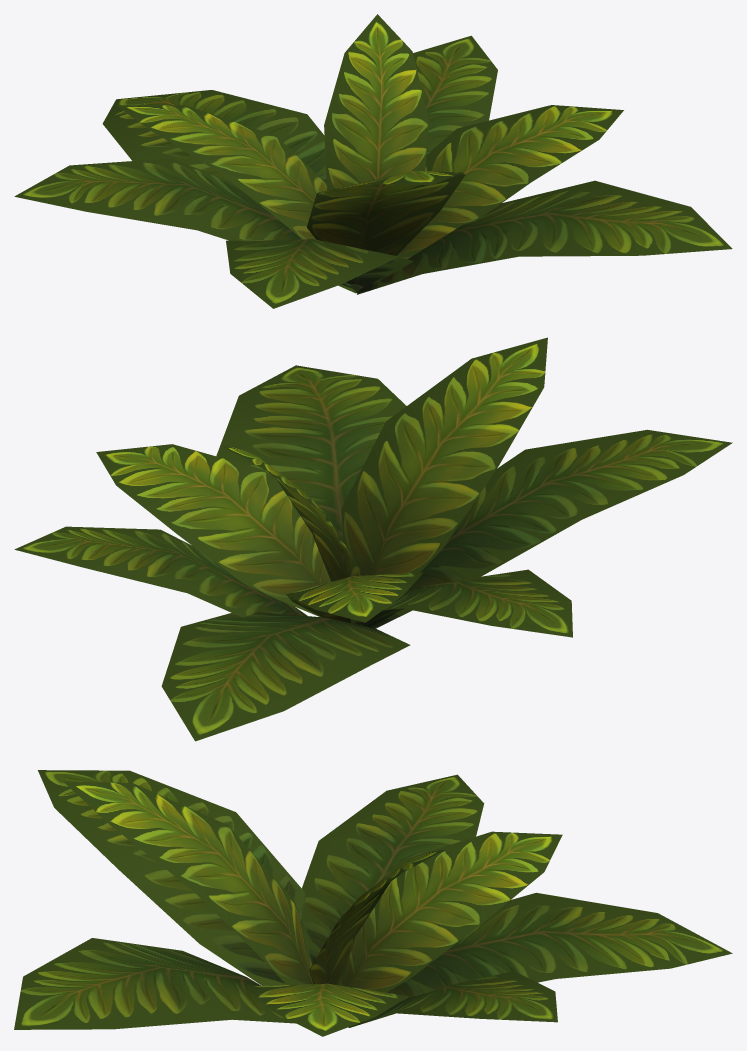
The model's file is Fern.FBX.
3 renders of one model, top to bottom at view 1: azimuth 30°, elevation 25°; view 2: azimuth 150°, elevation 25°; view 3: azimuth 270°, elevation 25°, orthographic.
Parts seen in each view (by area): view 1: Fern; view 2: Fern; view 3: Fern.
Boxes of the visible parts, x1,y1,x2,y2 form: Fern: (14, 14, 732, 308); Fern: (14, 337, 732, 741); Fern: (14, 770, 732, 1036).
Size of what is drawn, in the model's own units: 269 by 308 by 99.93.
